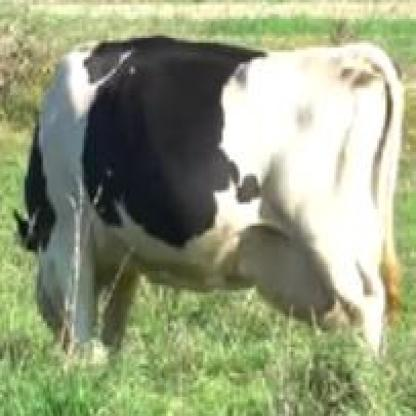cow: (22, 40, 402, 366)
